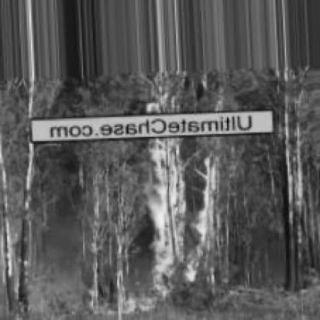Fire: (145, 77, 223, 291), (90, 288, 172, 316)
